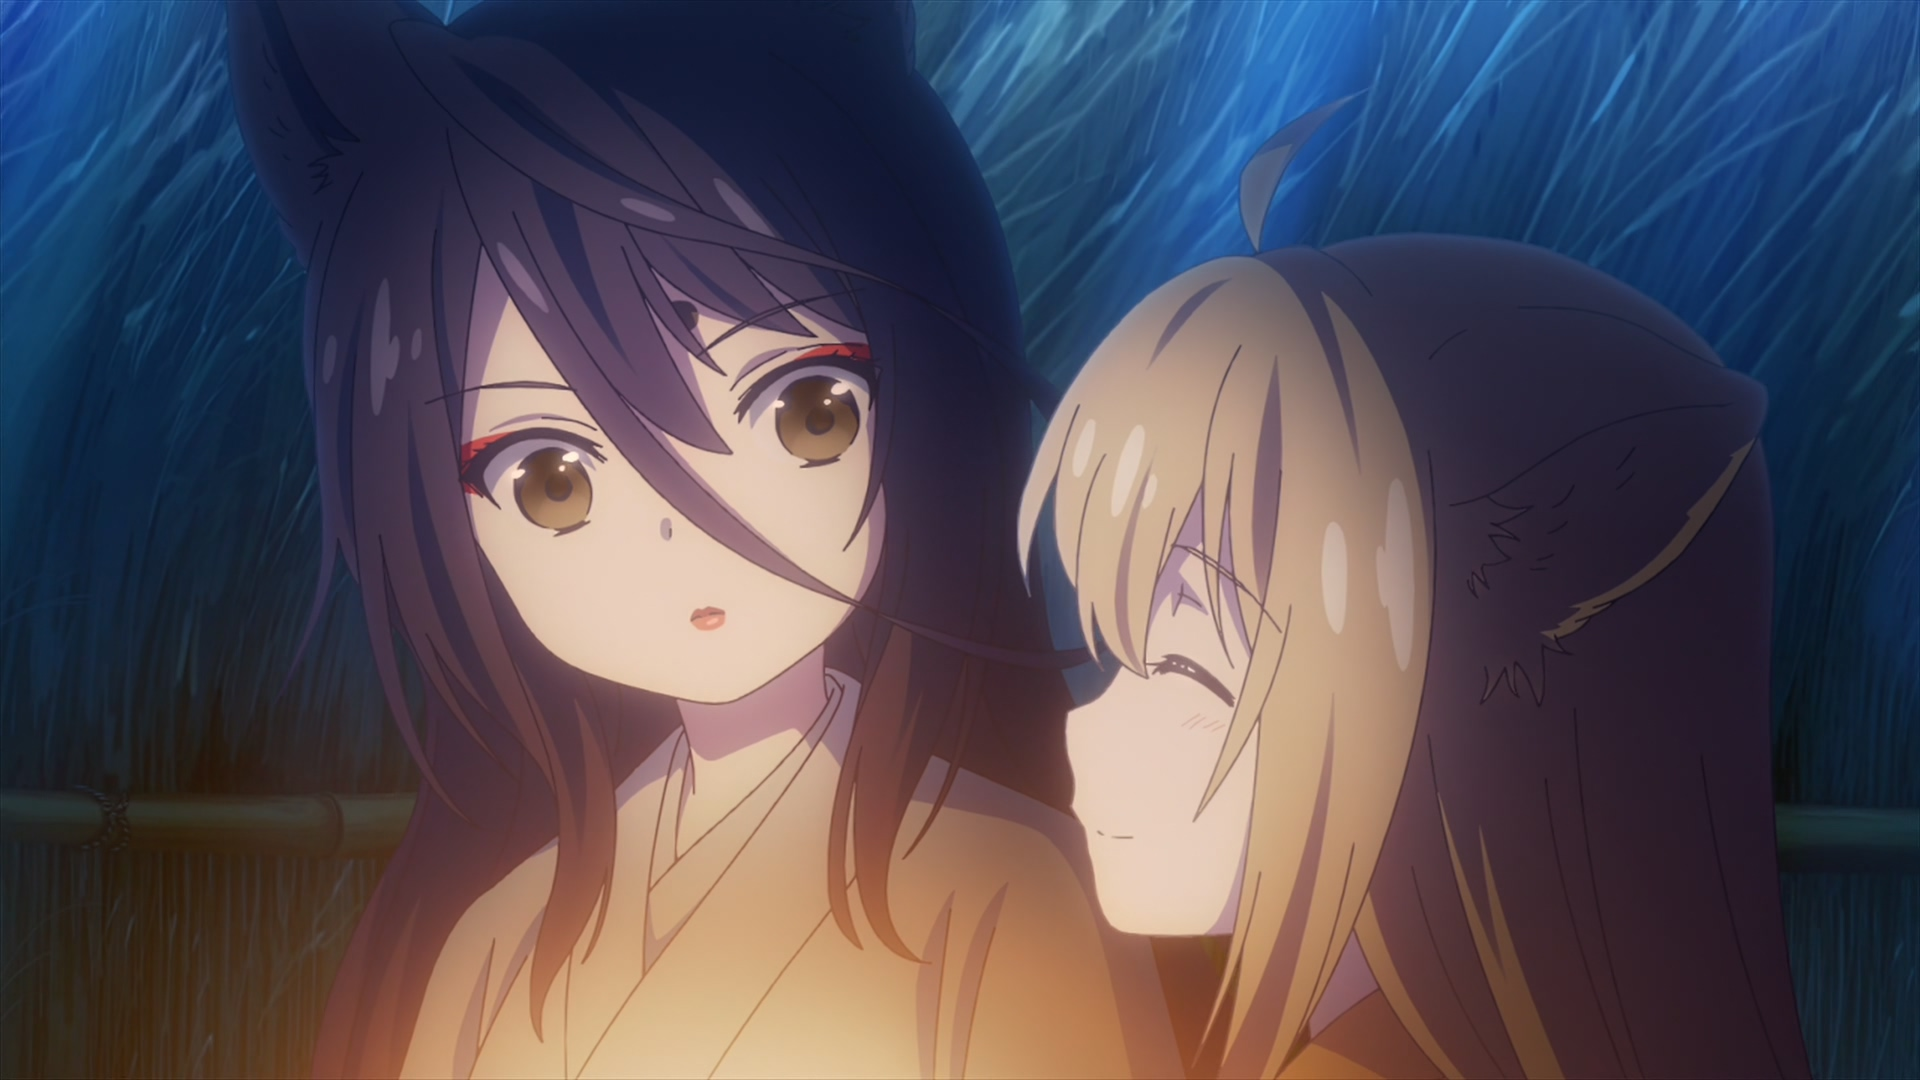柚: (1018, 91, 1801, 1080)
皋: (223, 1, 1185, 1080)
